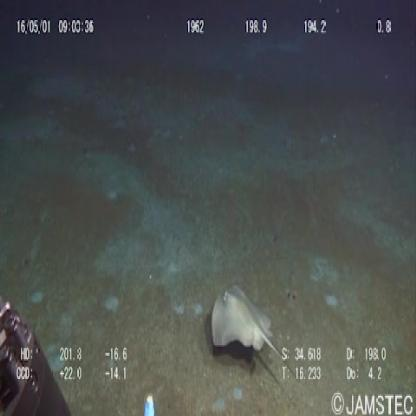Bio: (206, 277, 293, 372)
Rov: (1, 294, 73, 416)
